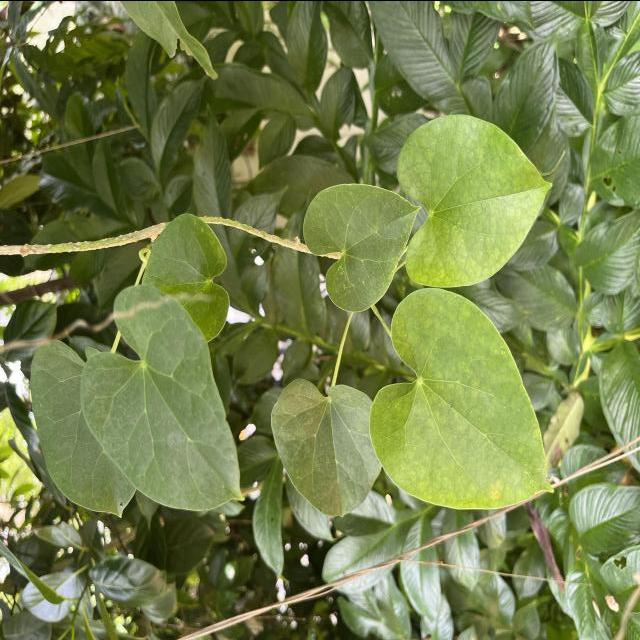Tinospora cordifolia: (367, 284, 557, 511), (78, 280, 248, 512), (393, 110, 556, 290), (300, 179, 424, 314), (268, 375, 380, 518)
